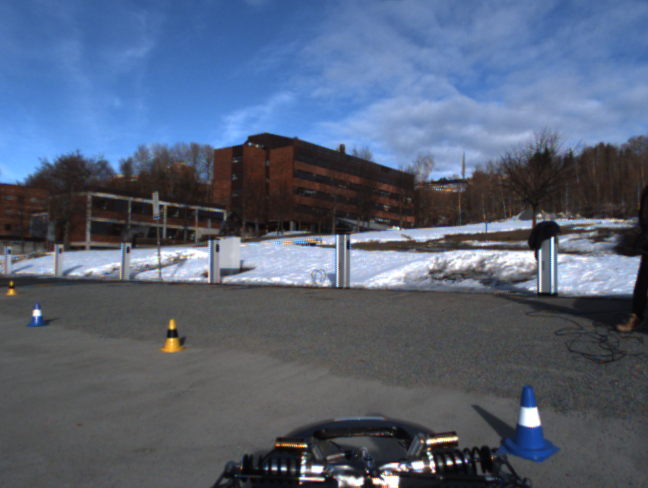cone-small-blue: (496, 384, 561, 462), (25, 302, 49, 326)
cone-small-yellow: (157, 319, 187, 353), (5, 281, 18, 295)
